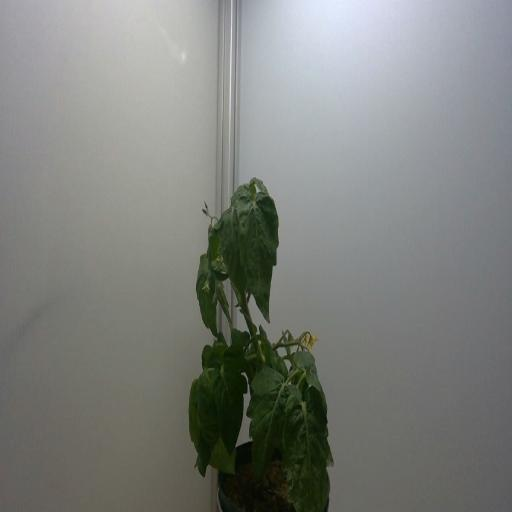Tomato-Leaves-Cupboard-: (281, 383, 329, 512), (247, 365, 293, 489), (243, 199, 277, 322), (222, 201, 252, 299), (186, 374, 213, 482), (212, 361, 243, 451), (192, 253, 218, 342), (257, 186, 283, 269), (289, 344, 329, 396), (214, 267, 239, 342), (195, 376, 220, 446), (204, 436, 242, 482), (258, 319, 277, 372), (208, 216, 226, 262), (202, 337, 228, 366), (227, 328, 253, 350)
